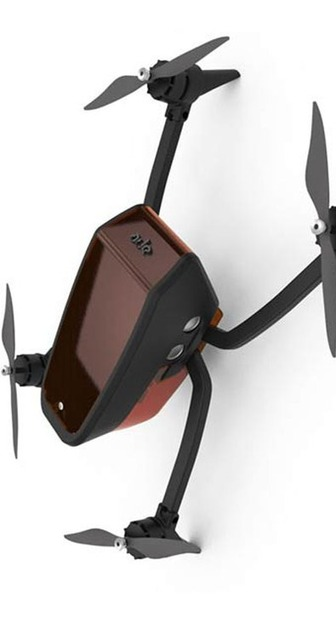drone: (1, 35, 332, 558)
